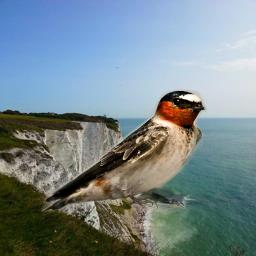Swallow: (41, 88, 207, 212)
